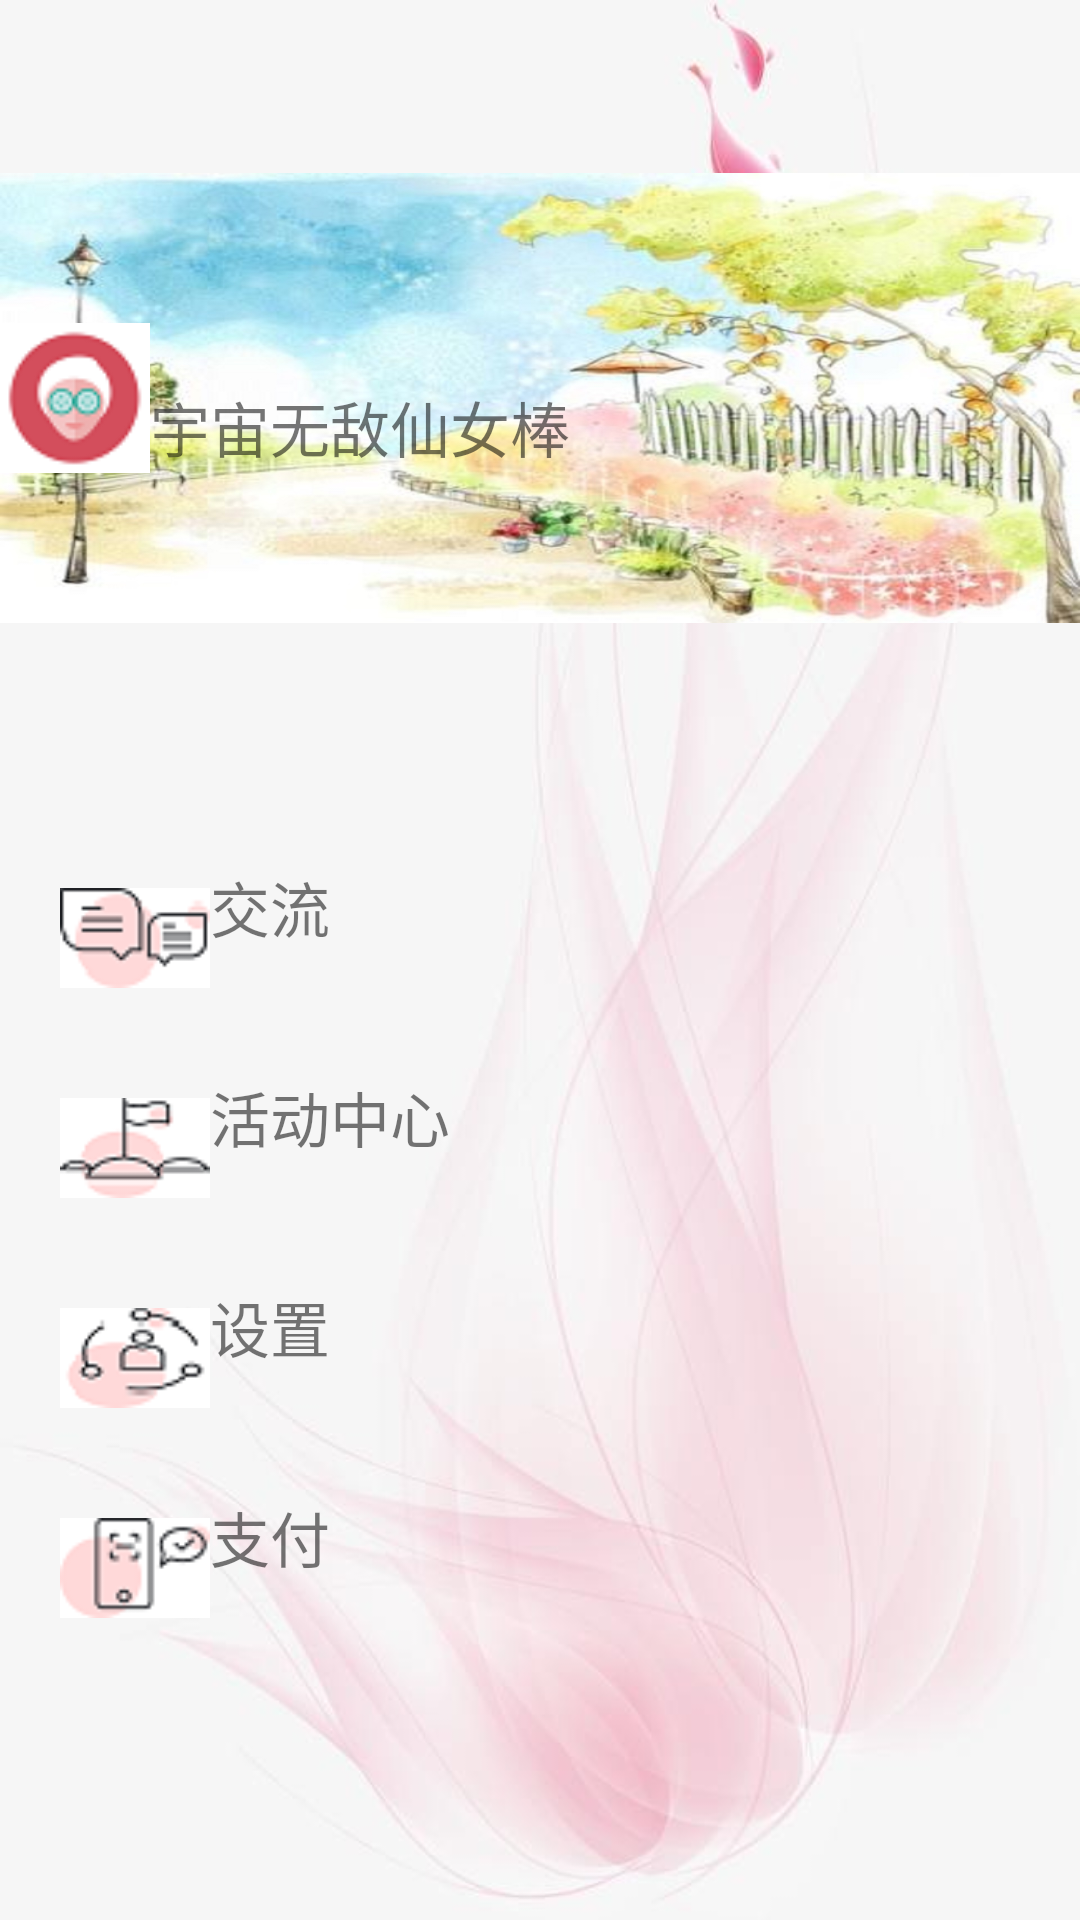

Named icons in this screenshot (1080x1920) and their centers, (x,y):
meirong: (74,398)
shequhudong: (134,938)
xuanshouguanli: (135,1358)
